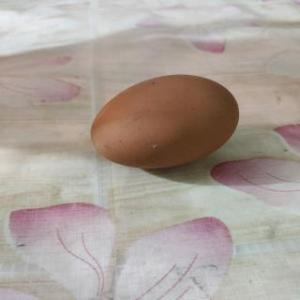egg: (87, 72, 243, 170)
